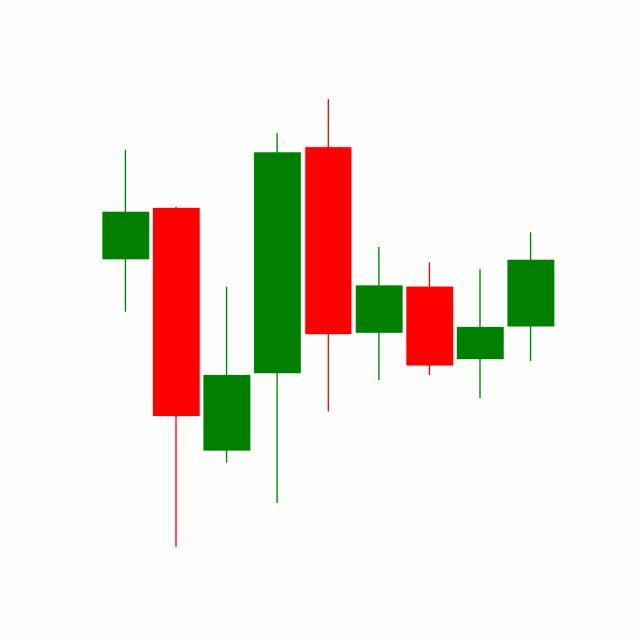Hikkake Pattern: (252, 100, 506, 509)
